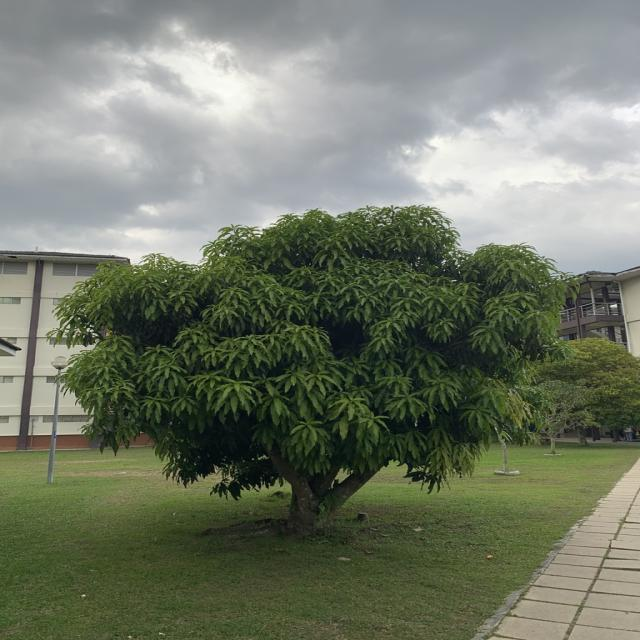Mango-Tree: (48, 208, 571, 516)
